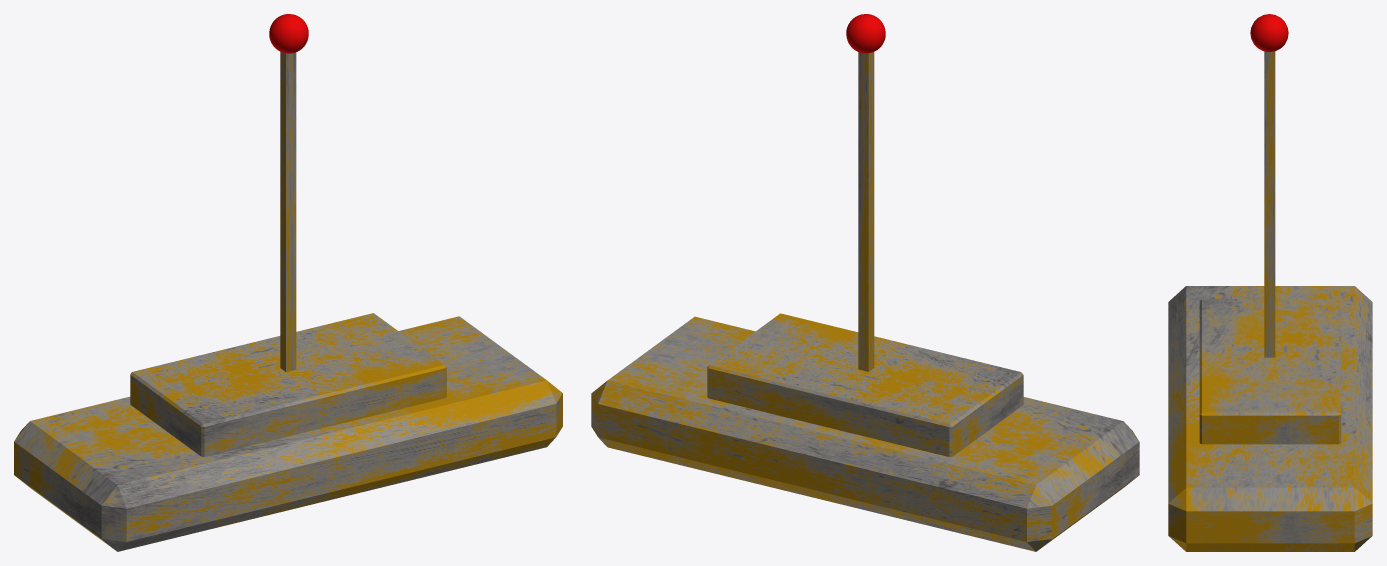
The model's file is Lever.fbx.
The picture shows the model from 3 angles, left to right: view 1: azimuth 30°, elevation 25°; view 2: azimuth 150°, elevation 25°; view 3: azimuth 270°, elevation 25°; orthographic projection. The views are drawn at different scales.
Parts seen in each view (by area): view 1: pCube1, pCube2, lever, pSphere1; view 2: pCube1, pCube2, lever, pSphere1; view 3: pCube1, pCube2, lever, pSphere1.
Part boxes in pixels (x1,y1,x2,y2): pCube1: [14, 316, 562, 551]; pCube2: [130, 313, 446, 456]; lever: [280, 52, 296, 371]; pSphere1: [269, 14, 308, 53]; pCube1: [591, 316, 1139, 551]; pCube2: [707, 313, 1023, 456]; lever: [858, 52, 874, 371]; pSphere1: [846, 14, 885, 53]; pCube1: [1168, 286, 1372, 551]; pCube2: [1199, 299, 1341, 444]; lever: [1264, 51, 1275, 357]; pSphere1: [1250, 14, 1288, 52].
Bounding box in the file's own units: 2.51 × 2.35 × 1.
